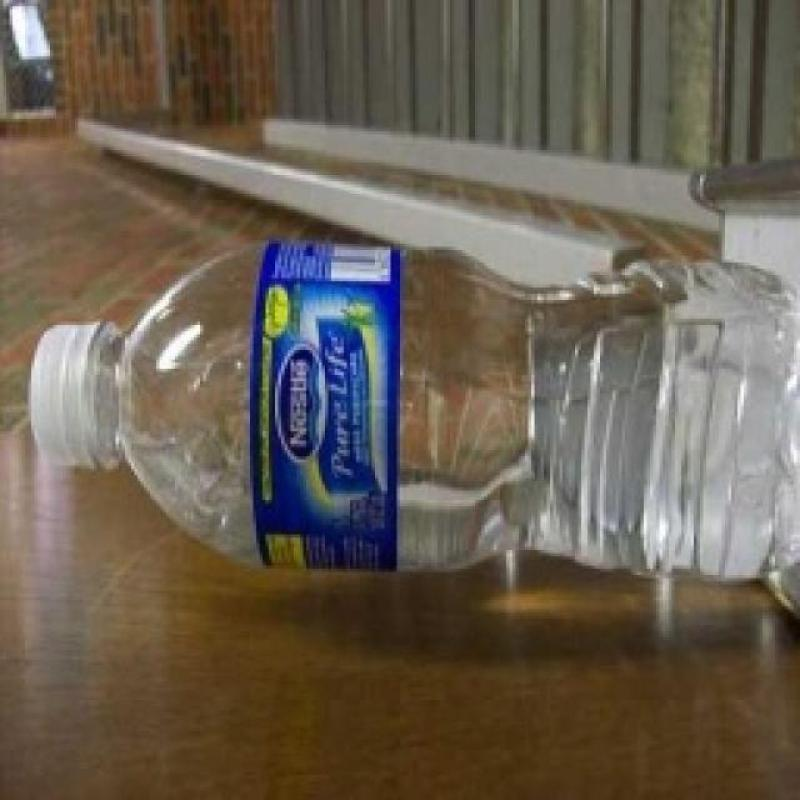botella: (31, 227, 800, 583)
